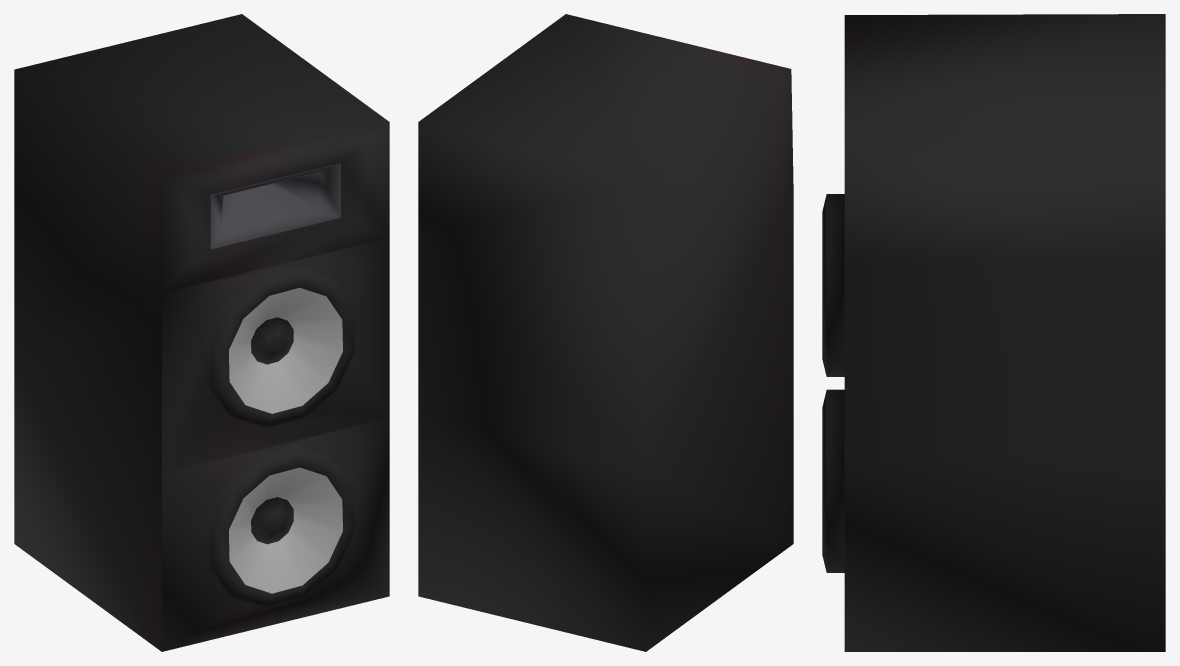
File: SpeakersBig.glb
3 renders of one model, left to right at view 1: azimuth 30°, elevation 25°; view 2: azimuth 150°, elevation 25°; view 3: azimuth 270°, elevation 25°, orthographic. The views are drawn at different scales.
Parts seen in each view (by area): view 1: SpeakersBig; view 2: SpeakersBig; view 3: SpeakersBig.
Boxes of the visible parts, x1=… form: SpeakersBig: x1=14, y1=14, x2=389, y2=651; SpeakersBig: x1=418, y1=14, x2=793, y2=651; SpeakersBig: x1=822, y1=14, x2=1165, y2=651.
Size of the model in its own units: 1 by 1.99 by 1.2.
Materials: 1 (1 with a texture image).
